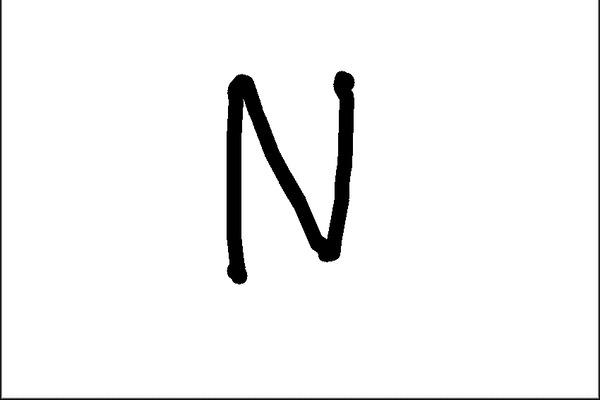N: (216, 63, 359, 286)
